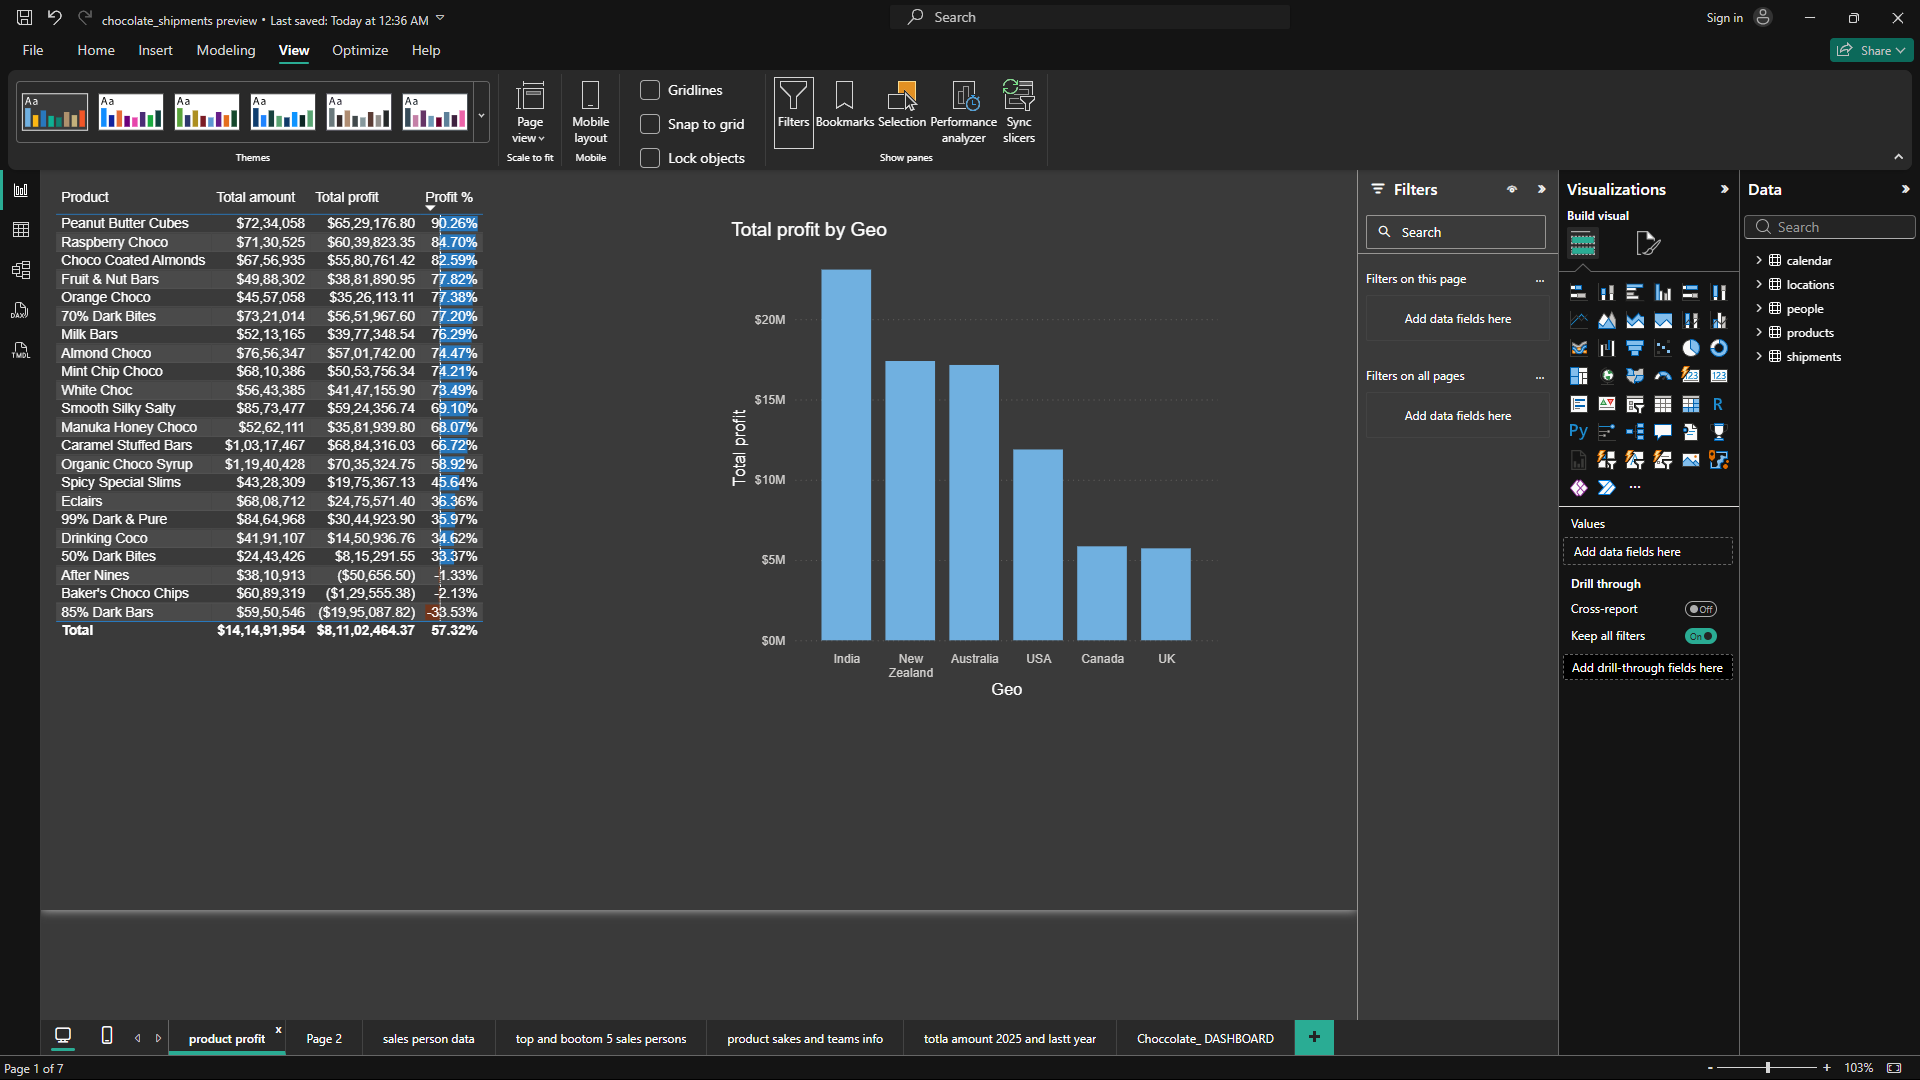

Layout of this report page (visuals, bound fields, positions):
{"tool":"powerbi","page":{"name":"Page 1","canvas":[1280,720],"ordinal":0},"visuals":[{"type":"clusteredColumnChart","fields":{"Category":["locations.Geo"],"Y":["shipments.Total profit"]},"box":[666.3,47.7,483.4,470.8],"z":0},{"type":"tableEx","fields":{"Values":["products.Product","shipments.Total amount","shipments.Total profit","shipments.Profit %"]},"box":[8.8,12.6,496,505.8],"z":1000}]}

Visuals, with their boxes on the page's 1280x720 design canvas (x1, y1, x2, y2). These are canvas units, not pixel positions in the 1920x1080 screenshot, which may show the page scaled, cropped or inside an application window:
clusteredColumnChart - locations.Geo x shipments.Total profit: 666,48,1150,518
tableEx - products.Product x shipments.Total amount: 9,13,505,518
